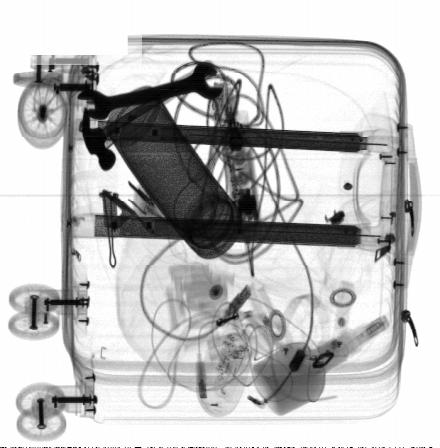Hammer: (81, 62, 215, 172)
Wrench: (78, 60, 224, 119)
